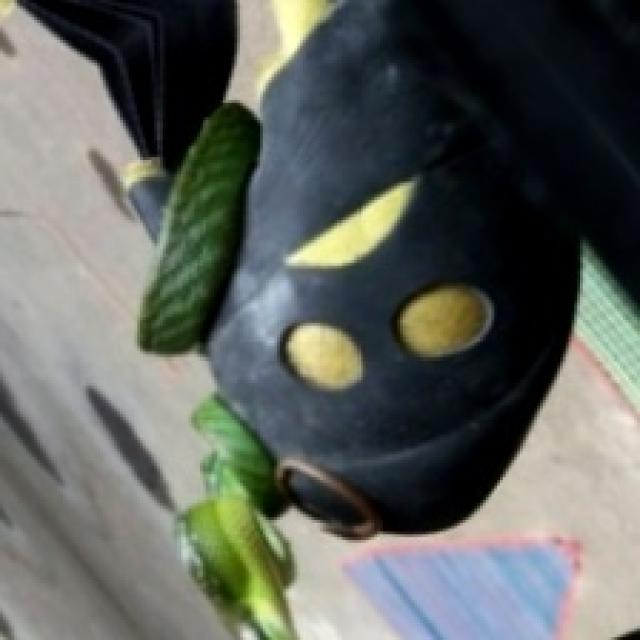red-tailed green ratsnake: (179, 395, 378, 640), (139, 102, 260, 353)
